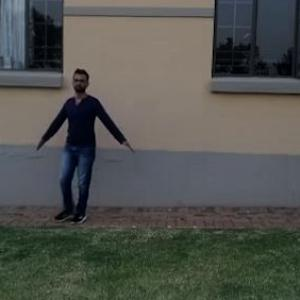land: (38, 74, 138, 229)
